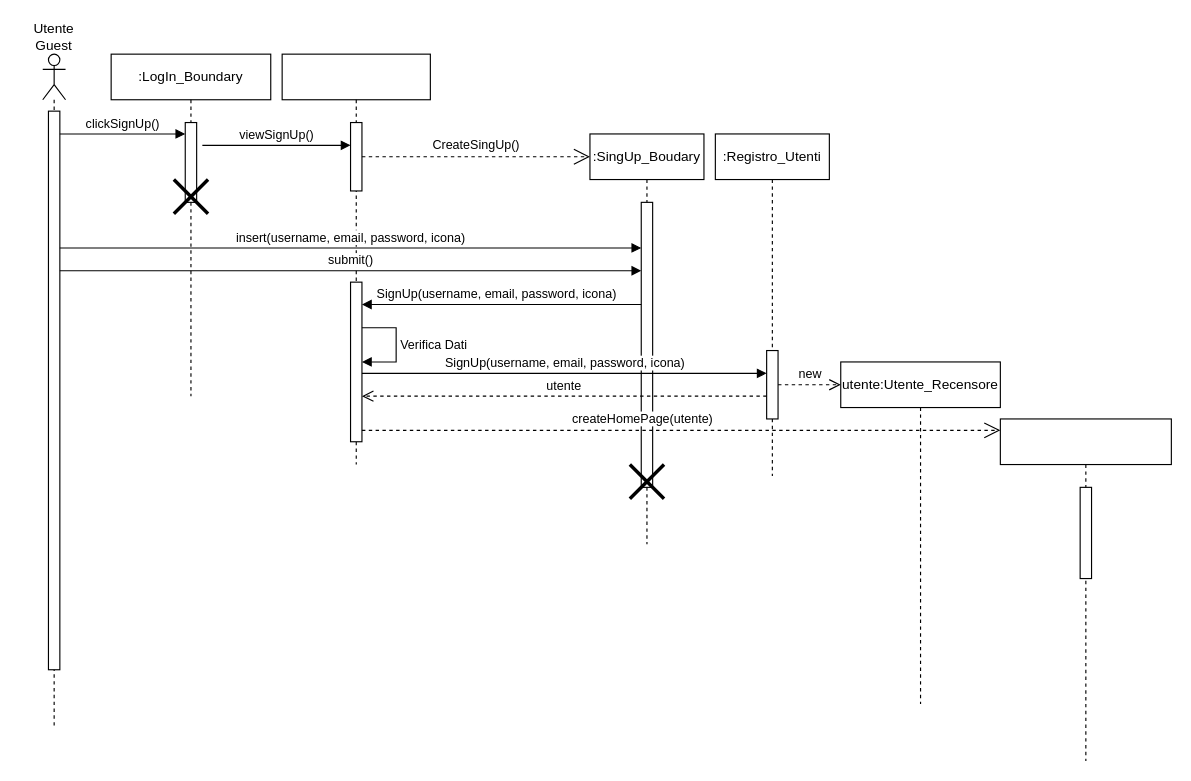
Some shapes in this 1191 by 781 pixel diagram are drawn without their labels. Here are the shapes that lost their labels. From the top down, the box of each, then its label:
(281, 53, 430, 465): Autentication_Control
(999, 418, 1171, 761): :HomePage_Boundary
